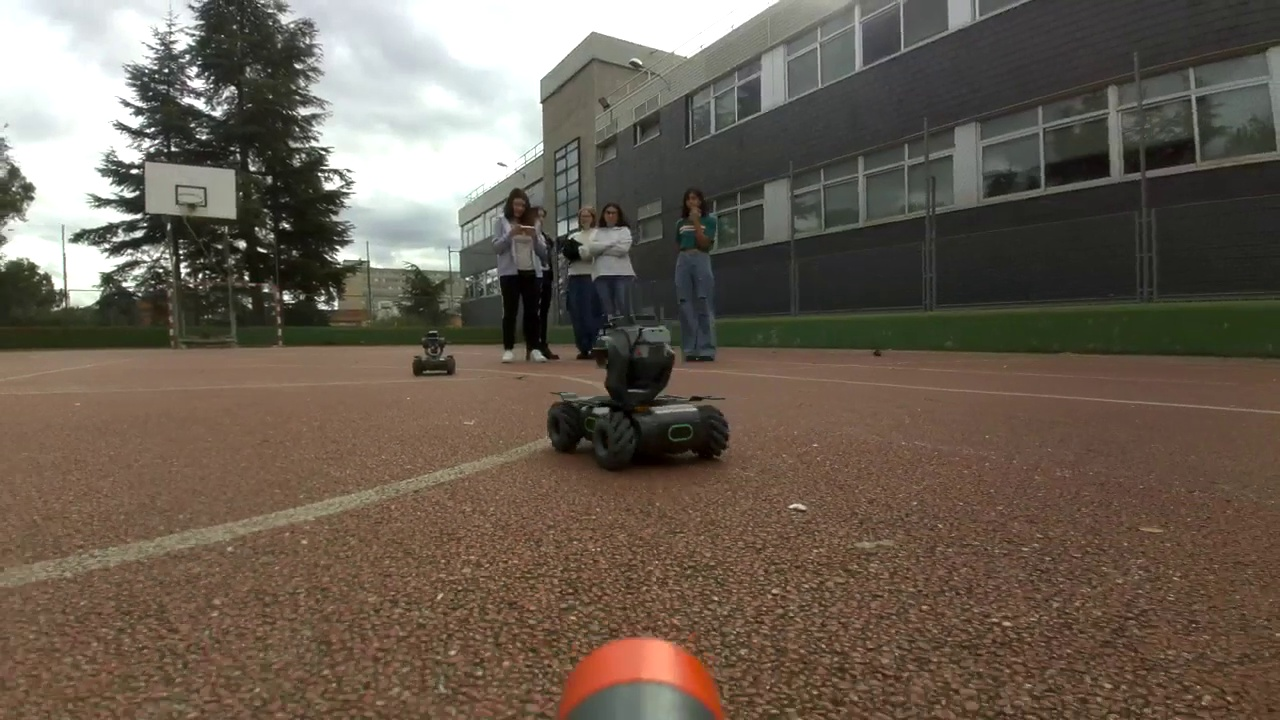robot: (546, 313, 728, 469), (414, 327, 456, 375)
